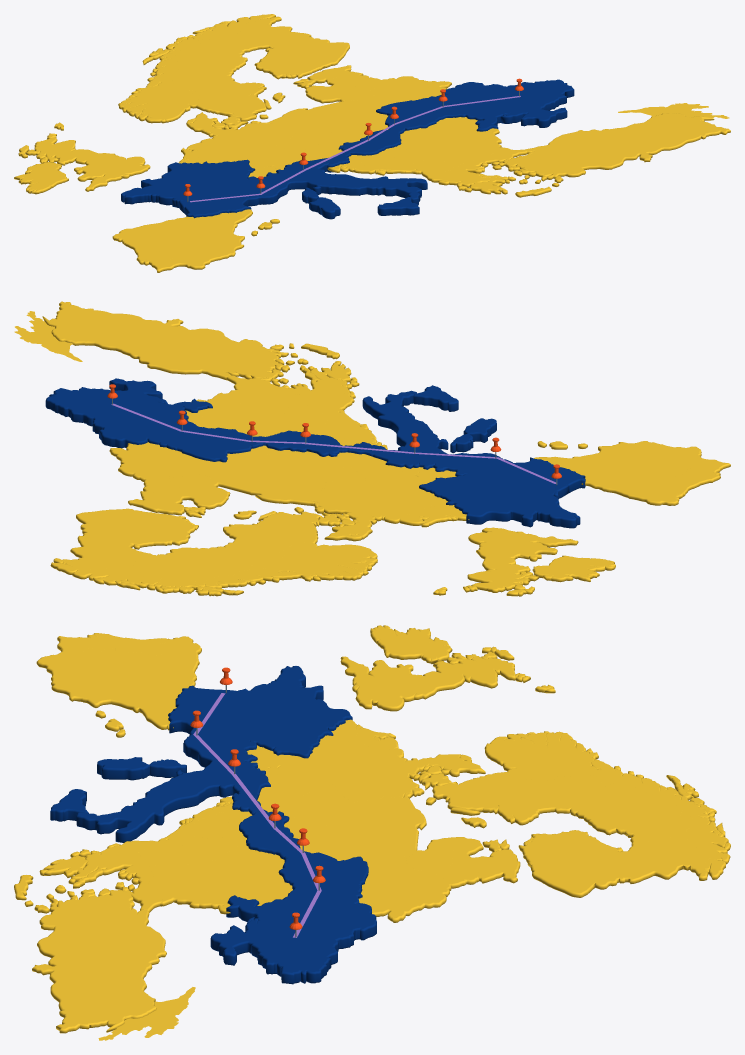
Rendered from EUROPE_MAP.glb.
3 views of the same model, one above another, from view 1: azimuth 30°, elevation 25°; view 2: azimuth 150°, elevation 25°; view 3: azimuth 270°, elevation 25° (orthographic). The views are drawn at different scales.
Visible parts, largest first — view 1: Curve.030, ukraine, france, Curve.002, Curve.011, italie, Curve.031, Curve.036, Curve.001, Curve.039, Curve.024, Curve.034 (+16 smaller); view 2: Curve.030, ukraine, france, Curve.031, Curve.002, Curve.011, Curve.036, italie, Curve.039, Curve.001, Curve.024, Curve.035 (+18 smaller); view 3: Curve.030, ukraine, france, Curve.002, Curve.011, Curve.031, italie, Curve.036, Curve.039, Curve.001, Curve.024, Curve.035 (+17 smaller).
Part boxes in pixels (bbox=[...]): Curve.030: bbox=[492, 113, 730, 179]; ukraine: bbox=[376, 79, 574, 131]; france: bbox=[121, 159, 318, 218]; Curve.002: bbox=[171, 38, 285, 121]; Curve.011: bbox=[112, 209, 279, 269]; italie: bbox=[258, 159, 427, 219]; Curve.031: bbox=[118, 14, 281, 123]; Curve.036: bbox=[201, 20, 349, 79]; Curve.001: bbox=[18, 122, 150, 191]; Curve.039: bbox=[200, 120, 307, 169]; Curve.024: bbox=[267, 100, 388, 136]; Curve.034: bbox=[438, 154, 563, 197]; Curve.030: bbox=[42, 301, 283, 388]; ukraine: bbox=[45, 378, 263, 462]; france: bbox=[419, 433, 585, 528]; Curve.031: bbox=[50, 540, 377, 596]; Curve.002: bbox=[133, 510, 321, 581]; Curve.011: bbox=[534, 441, 706, 505]; Curve.036: bbox=[70, 508, 198, 579]; italie: bbox=[362, 385, 496, 471]; Curve.039: bbox=[313, 464, 435, 526]; Curve.001: bbox=[433, 527, 578, 596]; Curve.024: bbox=[211, 448, 329, 506]; Curve.035: bbox=[109, 442, 224, 481]; Curve.030: bbox=[32, 887, 166, 1033]; ukraine: bbox=[210, 850, 376, 984]; france: bbox=[149, 666, 352, 777]; Curve.002: bbox=[432, 772, 692, 845]; Curve.011: bbox=[36, 636, 201, 737]; Curve.031: bbox=[484, 731, 730, 880]; italie: bbox=[50, 745, 270, 842]; Curve.036: bbox=[518, 819, 709, 897]; Curve.039: bbox=[272, 741, 425, 802]; Curve.001: bbox=[340, 642, 555, 711]; Curve.024: bbox=[311, 795, 426, 860]; Curve.035: bbox=[358, 856, 451, 922].
Bounding box in the file's own units: 9.46 × 0.3813 × 6.92.
